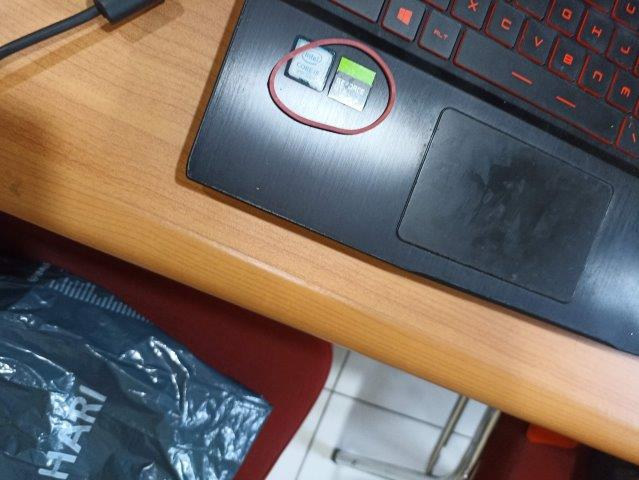karet: (268, 37, 396, 137)
